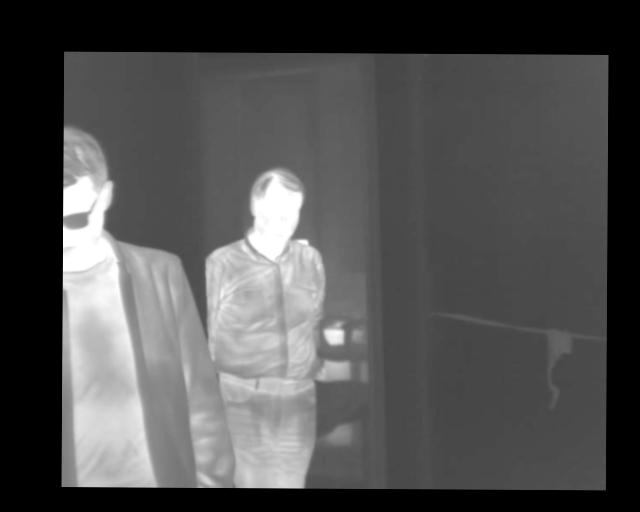face: (248, 165, 305, 247)
